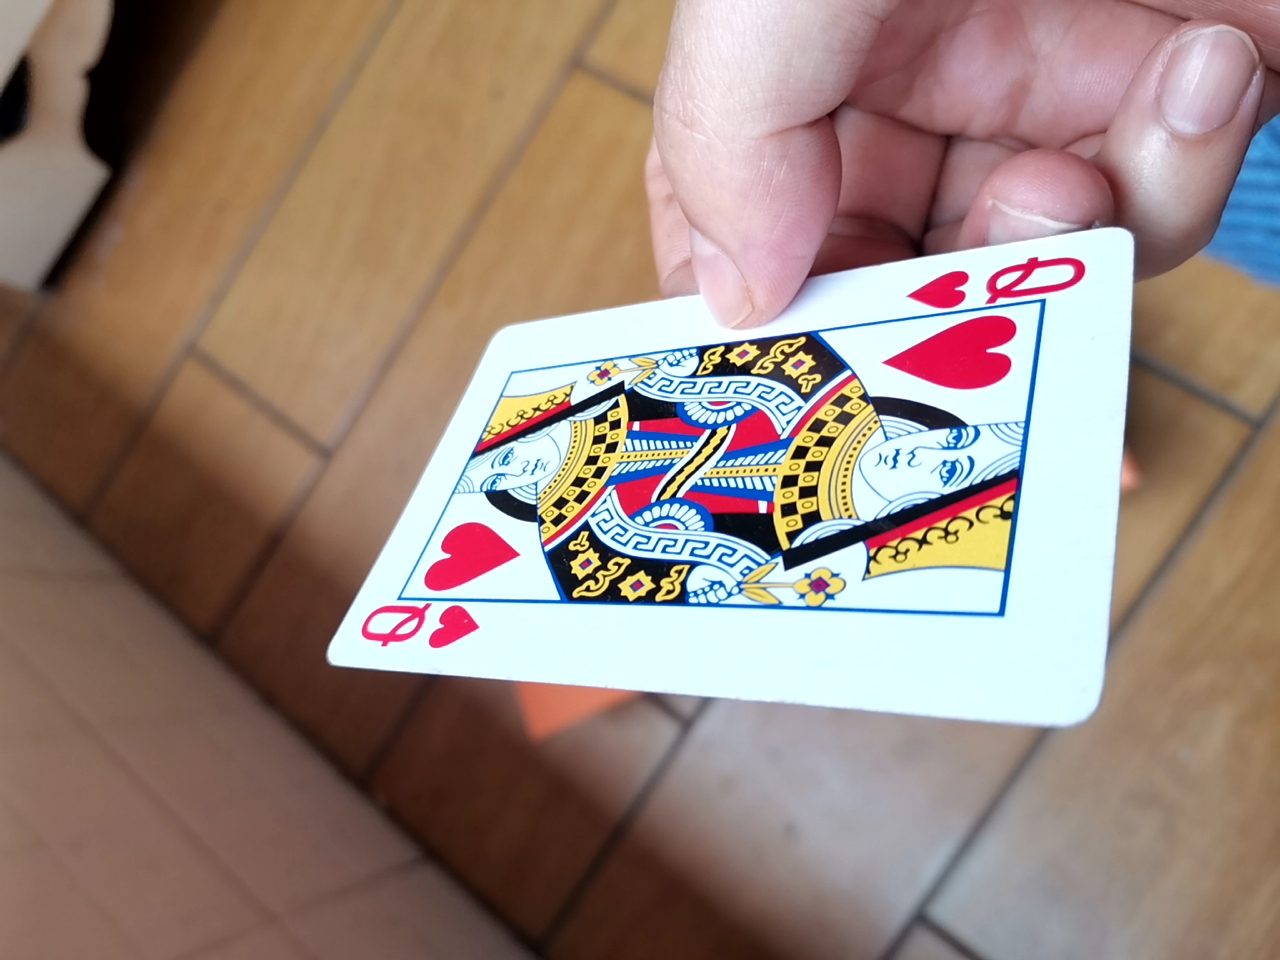hx q: (305, 245, 1139, 727)
